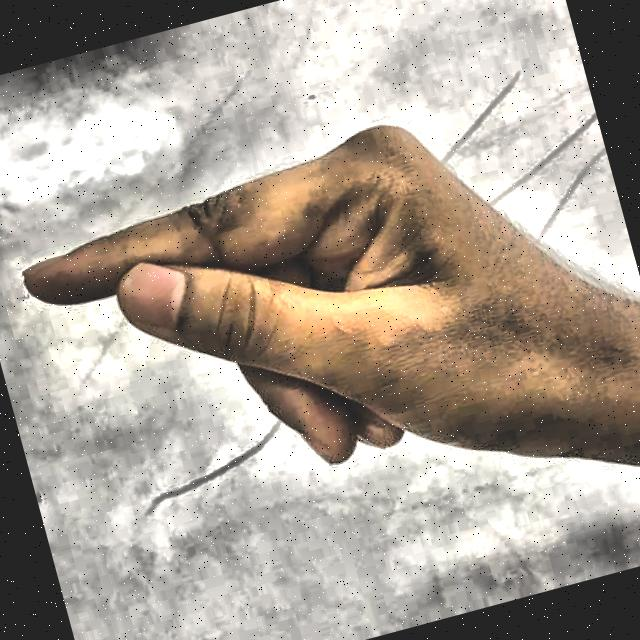Tha: (0, 41, 640, 635)
